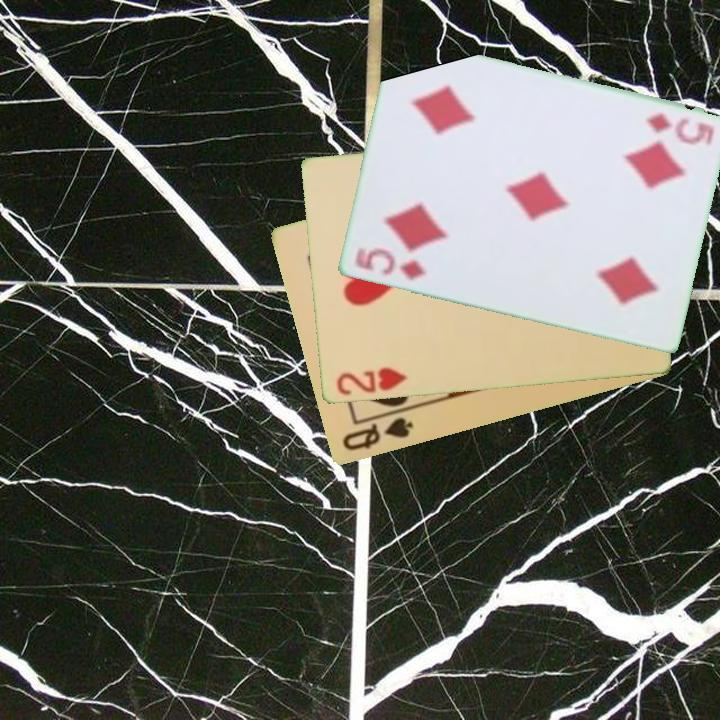2h: (333, 364, 409, 399)
5d: (350, 245, 429, 284), (641, 110, 709, 146)
Qs: (339, 414, 416, 454)
